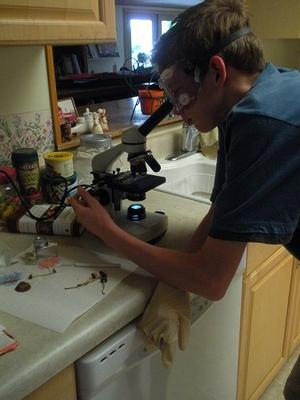person: (69, 2, 299, 366)
